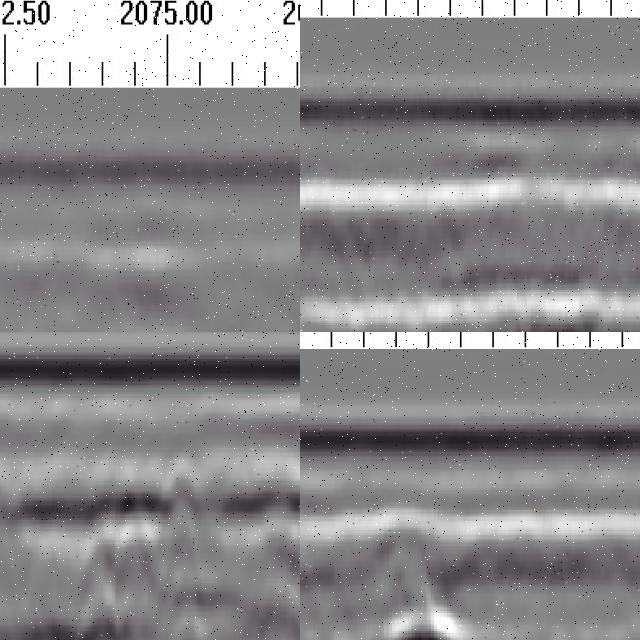crack: (381, 552, 457, 640)
loose: (60, 463, 301, 640)
